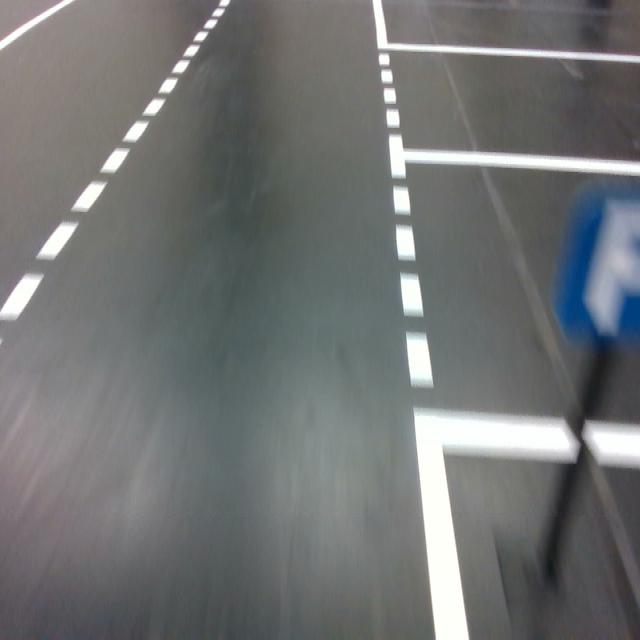parking-sign: (557, 184, 640, 344)
